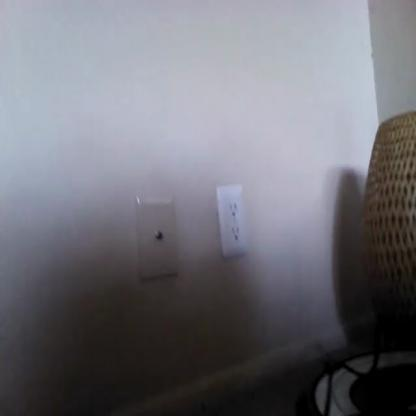OUTLET: (216, 183, 249, 258)
